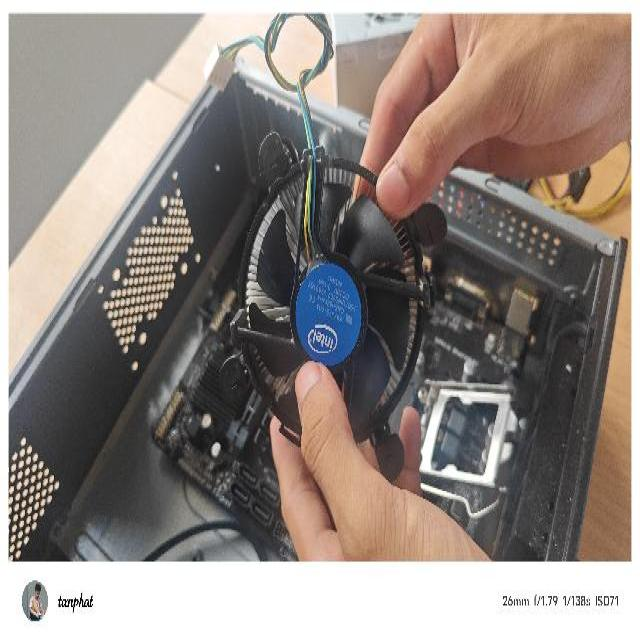CPU_Fan: (216, 128, 446, 488)
